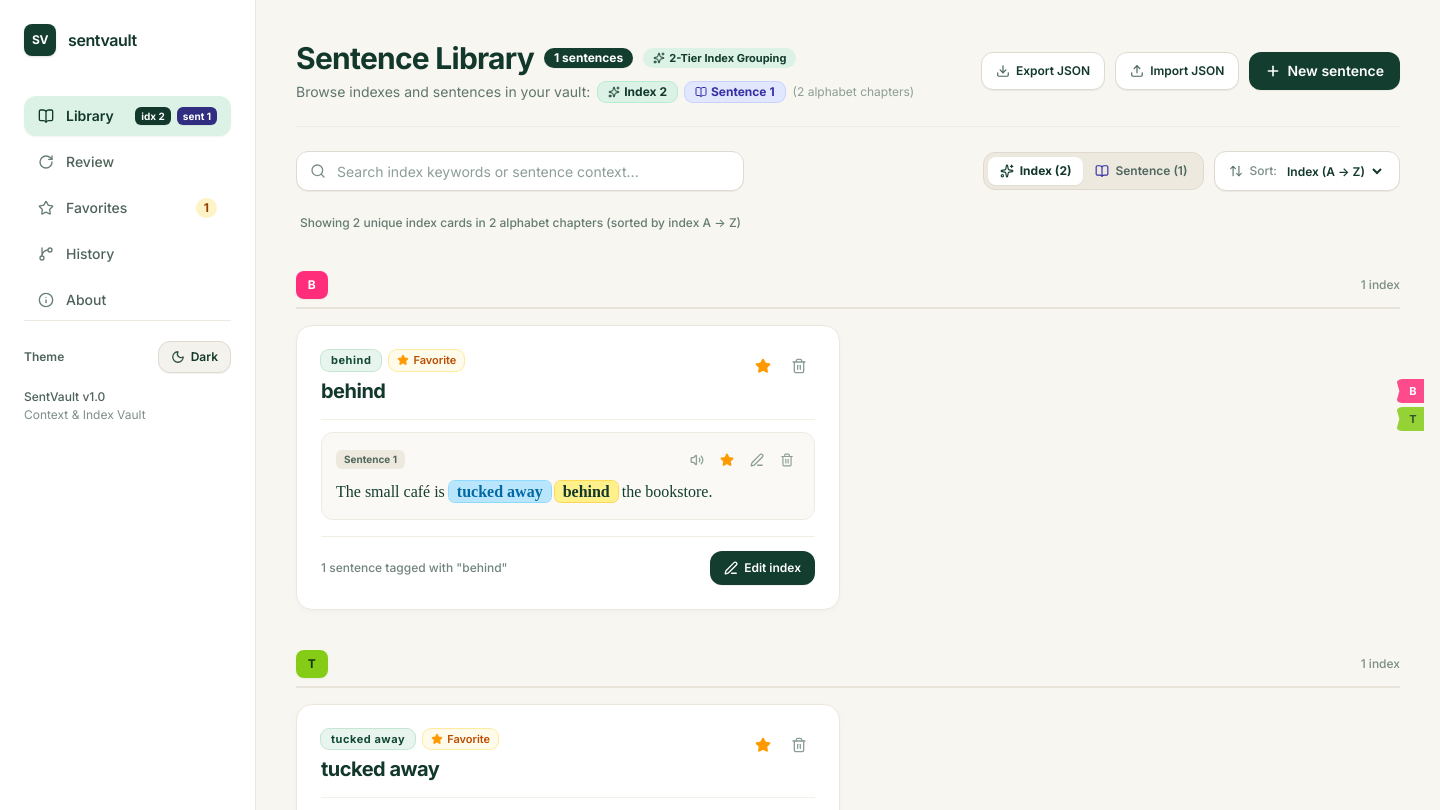
Sentence Note - Multi-Index Management › renders a sentence only once in FavoritesView even if it has multiple indexes, while showing all indexes in header
This screenshot has width=1440, height=810.
Click the button "Favorites 1".
click(128, 208)  # box left=24, top=188, right=231, bottom=228
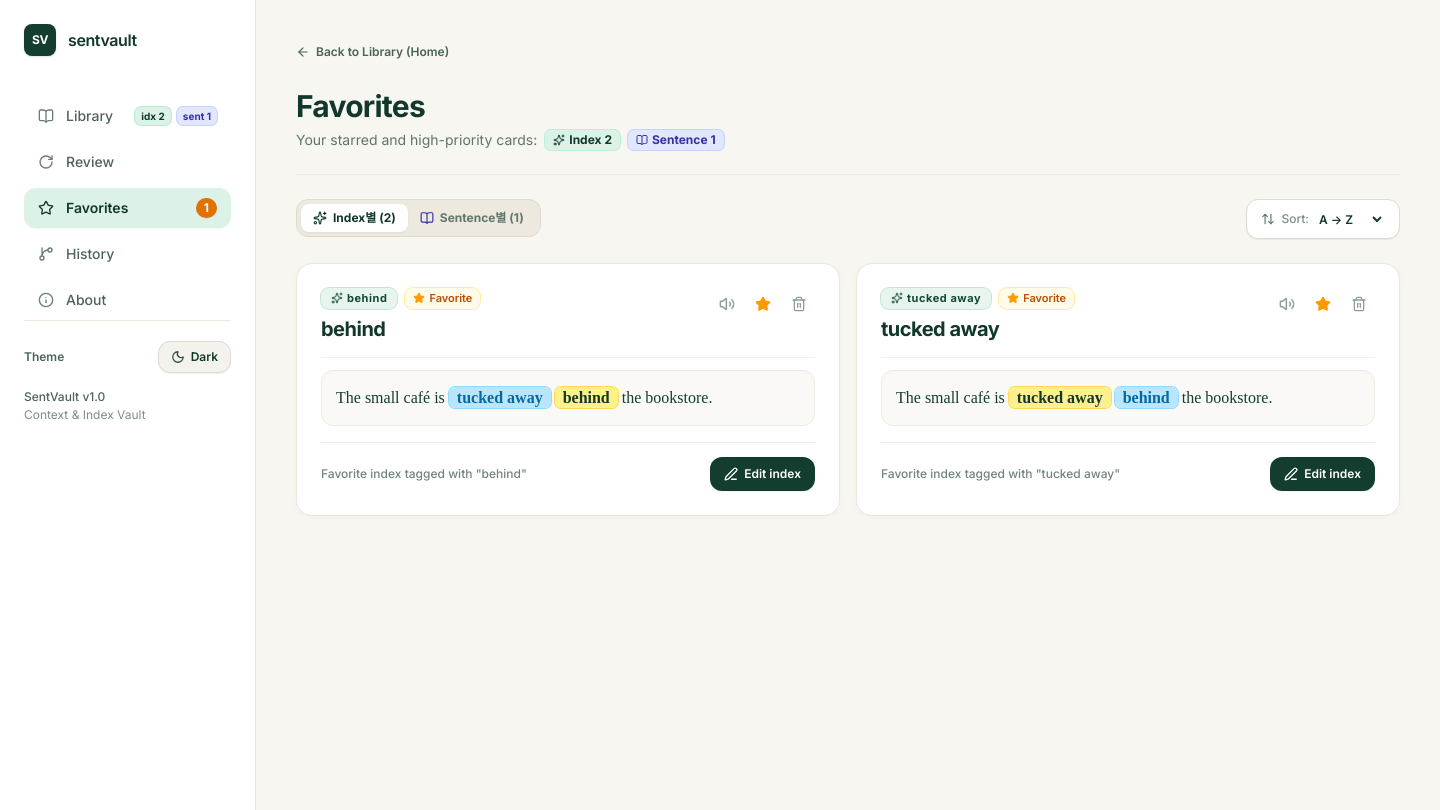
Check: the button with aria-label "view by index" is shown, box left=301, top=204, right=408, bottom=232
Check: the button with aria-label "view by sentence" is shown
Click the button with aria-label "view by sentence".
click(472, 218)  # box left=408, top=204, right=536, bottom=232
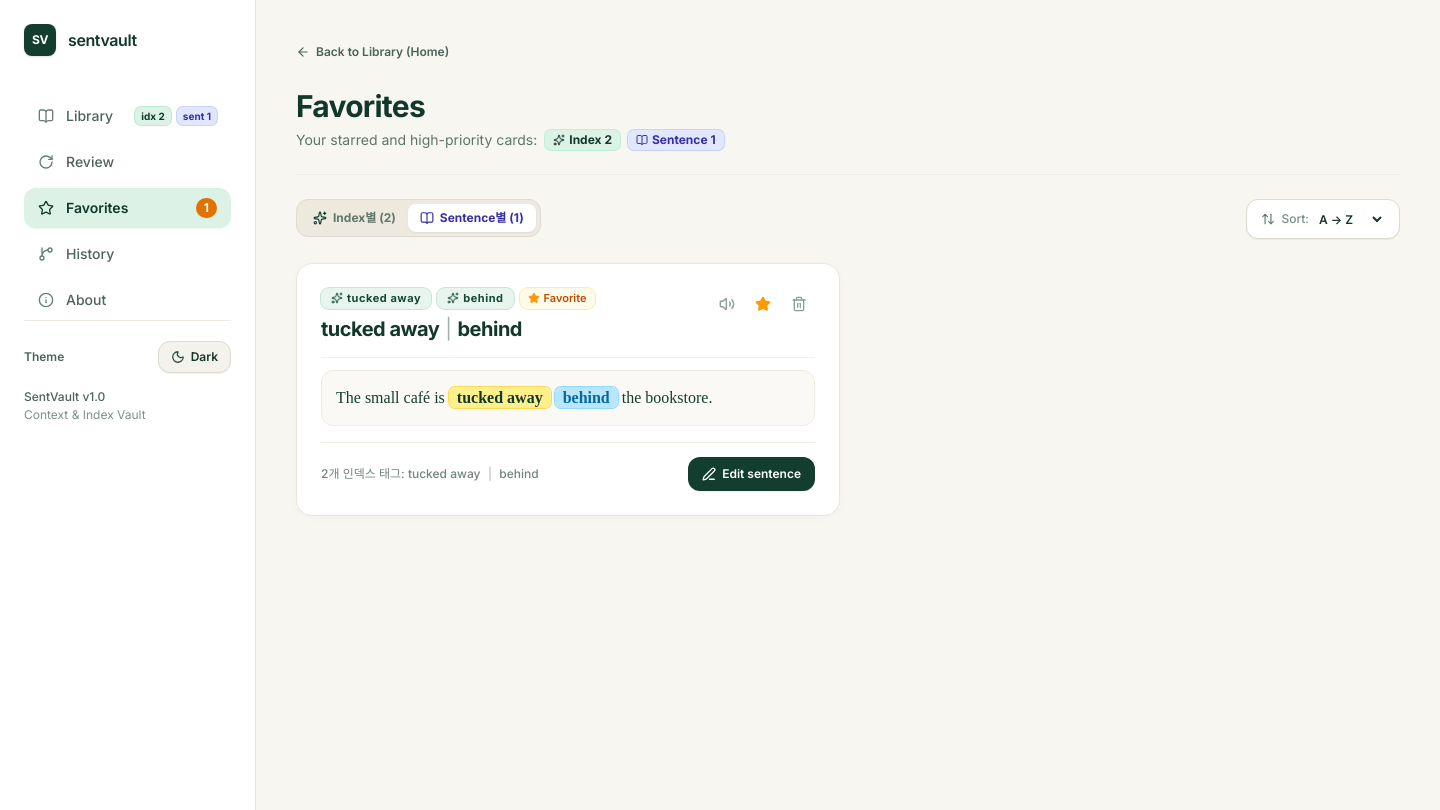
Check: the text "The small café is tucked away behind the bookstore." is shown once, box left=336, top=386, right=712, bottom=408
Check: the heading "tucked away | behind" is shown, box left=321, top=316, right=522, bottom=340
